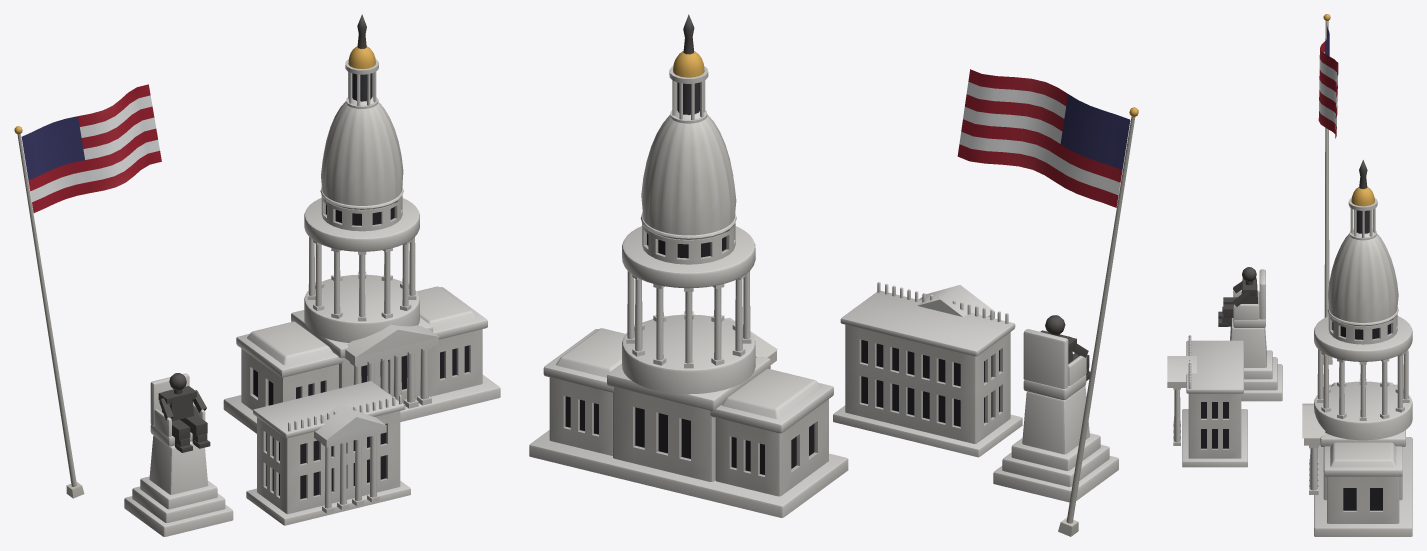
Rendered from landmark_washington_solo.glb.
The picture shows the model from 3 angles, left to right: view 1: azimuth 30°, elevation 25°; view 2: azimuth 150°, elevation 25°; view 3: azimuth 270°, elevation 25°; orthographic projection. The views are drawn at different scales.
Visible parts, largest first — view 1: Capitol_Marble, WhiteHouse_Marble, Flag_Banner, Capitol_Colonnade, Lincoln_Pedestal, Capitol_Dome, WhiteHouse_Portico, Lincoln_Figure, Flag_Pole, Capitol_Cupola; view 2: Capitol_Marble, WhiteHouse_Marble, Flag_Banner, Lincoln_Pedestal, Capitol_Dome, Capitol_Colonnade, Flag_Pole, Capitol_Cupola, WhiteHouse_Portico, Lincoln_Figure; view 3: Capitol_Marble, WhiteHouse_Marble, Capitol_Dome, Lincoln_Pedestal, Capitol_Colonnade, Flag_Banner, Capitol_Cupola, WhiteHouse_Portico, Lincoln_Figure, Flag_Pole.
Boxes of the visible parts, bbox=[...] form: Capitol_Marble: bbox=[223, 187, 500, 433]; WhiteHouse_Marble: bbox=[246, 381, 410, 525]; Flag_Banner: bbox=[21, 84, 161, 212]; Capitol_Colonnade: bbox=[307, 237, 439, 410]; Lincoln_Pedestal: bbox=[124, 373, 233, 536]; Capitol_Dome: bbox=[321, 96, 403, 205]; WhiteHouse_Portico: bbox=[314, 404, 386, 513]; Lincoln_Figure: bbox=[158, 373, 210, 452]; Flag_Pole: bbox=[14, 126, 84, 498]; Capitol_Cupola: bbox=[345, 14, 378, 108]; Capitol_Marble: bbox=[529, 213, 848, 517]; WhiteHouse_Marble: bbox=[833, 282, 1022, 457]; Flag_Banner: bbox=[957, 69, 1130, 207]; Lincoln_Pedestal: bbox=[993, 329, 1118, 502]; Capitol_Dome: bbox=[641, 109, 736, 235]; Capitol_Colonnade: bbox=[626, 271, 777, 368]; Flag_Pole: bbox=[1058, 107, 1138, 536]; Capitol_Cupola: bbox=[669, 14, 708, 123]; WhiteHouse_Portico: bbox=[917, 285, 994, 318]; Lincoln_Figure: bbox=[1040, 315, 1090, 380]; Capitol_Marble: bbox=[1314, 307, 1412, 536]; WhiteHouse_Marble: bbox=[1182, 335, 1247, 467]; Capitol_Dome: bbox=[1327, 230, 1398, 322]; Lincoln_Pedestal: bbox=[1230, 269, 1282, 401]; Capitol_Colonnade: bbox=[1302, 349, 1409, 494]; Flag_Banner: bbox=[1318, 26, 1338, 138]; Capitol_Cupola: bbox=[1348, 160, 1377, 240]; WhiteHouse_Portico: bbox=[1167, 356, 1196, 445]; Lincoln_Figure: bbox=[1218, 267, 1257, 326]; Flag_Pole: bbox=[1323, 14, 1332, 364].
Bounding box in the file's own units: 1.43 × 1.11 × 0.745.
